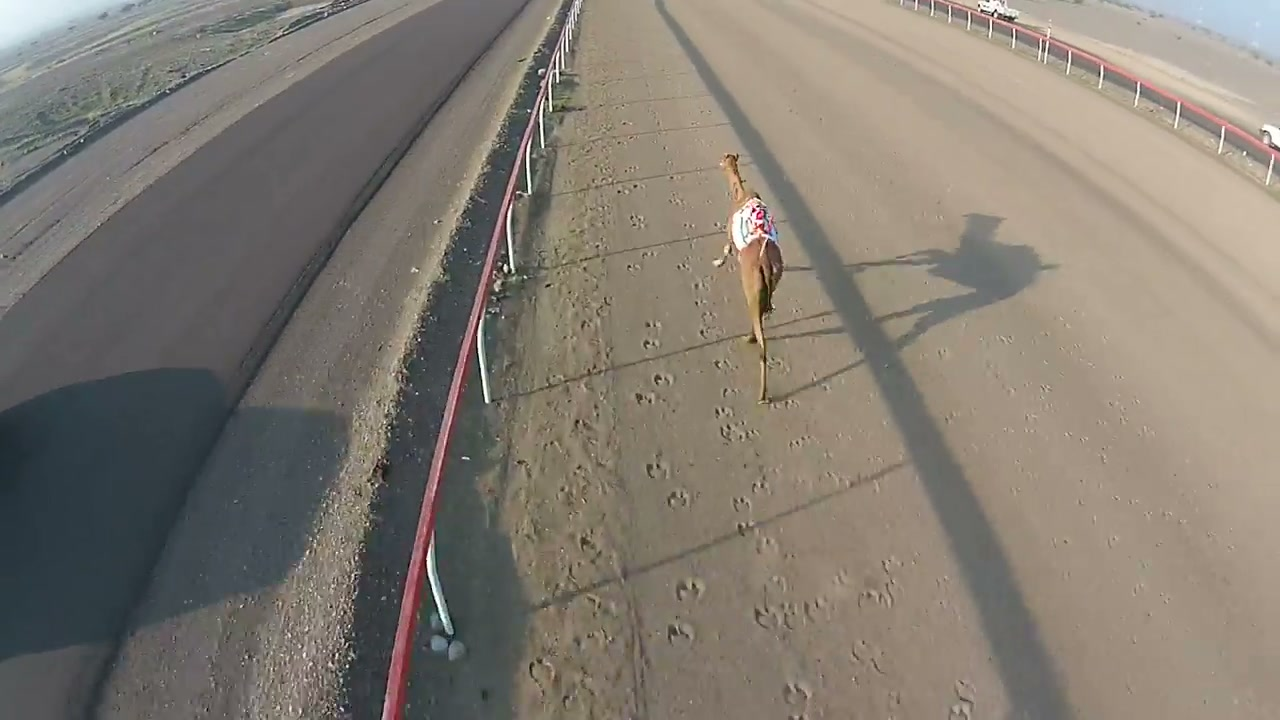animal_footprint: (589, 135, 826, 708)
